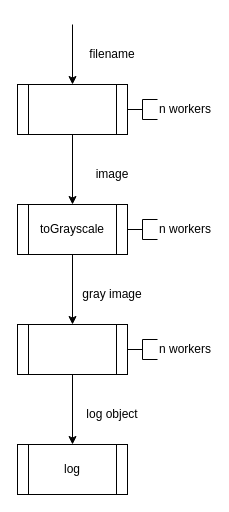
Some shapes in this 229 by 512 pixel diagram are drawn without their labels. Each missing label, with the centre of its shape:
readImage: point (72, 109)
saveImage: point (72, 349)
